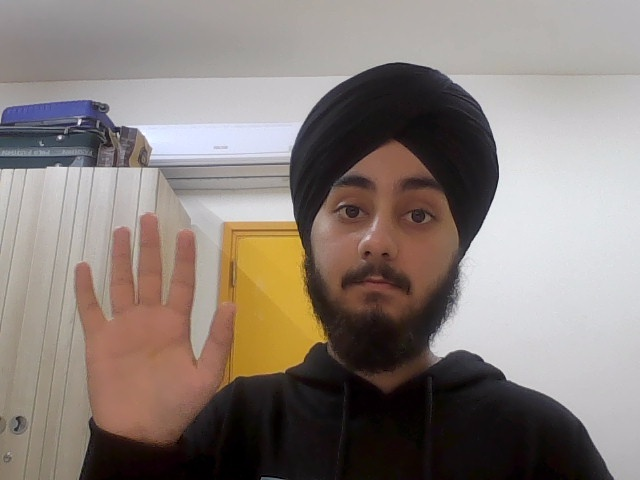Hello: (72, 209, 236, 440)
